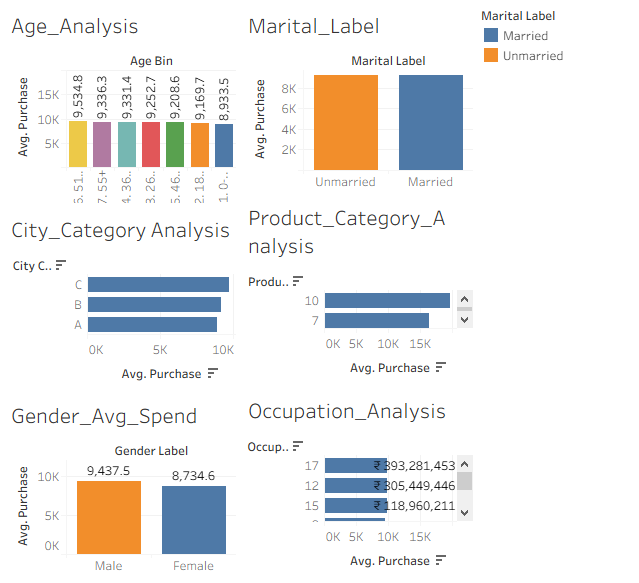

The dashboard page shown, as its layout file describes it:
{"tool":"tableau","page":{"name":"Customer_Insights_Dashboard","canvas":[650,860],"ordinal":0},"visuals":[{"type":"worksheet","title":"Age_Analysis","mark":"Automatic","rows":["Purchase"],"cols":["Calculation_0799085927800834"],"box":[8,11.6,237,296.6]},{"type":"worksheet","title":"Marital_Label","mark":"Automatic","rows":["Purchase"],"cols":["Calculation_0799085927706625"],"box":[245,11.6,237,278.9]},{"type":"legend","title":"Marital_Label","param":"[federated.0tyey3014odg0f14mxgqk17bgf0z].[none:Calculation_0799085927706625:nk]","box":[482,11.6,160,95.7]},{"type":"worksheet","title":"Product_Category_Analysis","mark":"Automatic","rows":["Product_Category"],"cols":["Purchase"],"box":[245,290.5,237,278.9]},{"type":"worksheet","title":"City_Category Analysis","mark":"Automatic","rows":["City_Category"],"cols":["Purchase"],"box":[8,308.2,237,269.7]},{"type":"worksheet","title":"Occupation_Analysis","mark":"Automatic","rows":["Occupation"],"cols":["Purchase"],"box":[245,569.5,237,278.9]},{"type":"worksheet","title":"Gender_Avg_Spend","mark":"Automatic","rows":["Purchase"],"cols":["Calculation_0799085927596032"],"box":[8,577.9,237,270.5]}]}

Visuals, with their boxes on the page's 650x860 design canvas (x1, y1, x2, y2). These are canvas units, not pixel positions in the 639x583 screenshot, which may show the page scaled, cropped or inside an application window:
"Age_Analysis" worksheet: {"left": 8, "top": 12, "right": 245, "bottom": 308}
"Marital_Label" worksheet: {"left": 245, "top": 12, "right": 482, "bottom": 290}
"Marital_Label" legend: {"left": 482, "top": 12, "right": 642, "bottom": 107}
"Product_Category_Analysis" worksheet: {"left": 245, "top": 290, "right": 482, "bottom": 569}
"City_Category Analysis" worksheet: {"left": 8, "top": 308, "right": 245, "bottom": 578}
"Occupation_Analysis" worksheet: {"left": 245, "top": 570, "right": 482, "bottom": 848}
"Gender_Avg_Spend" worksheet: {"left": 8, "top": 578, "right": 245, "bottom": 848}
